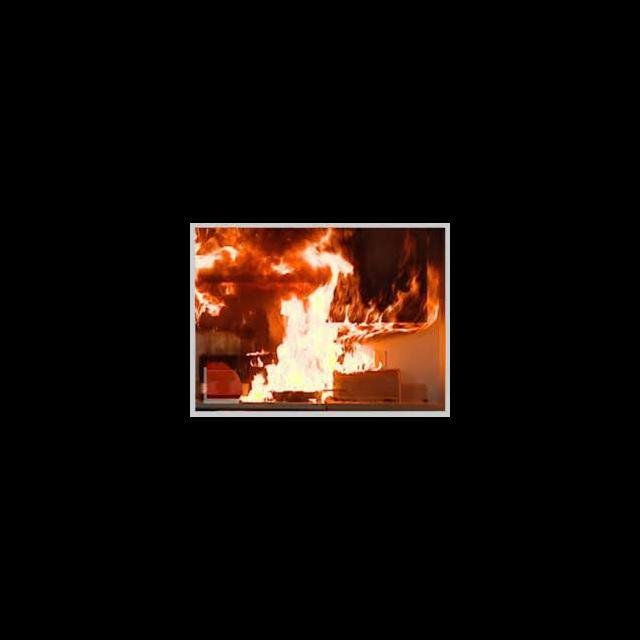Fire: (195, 228, 444, 408)
